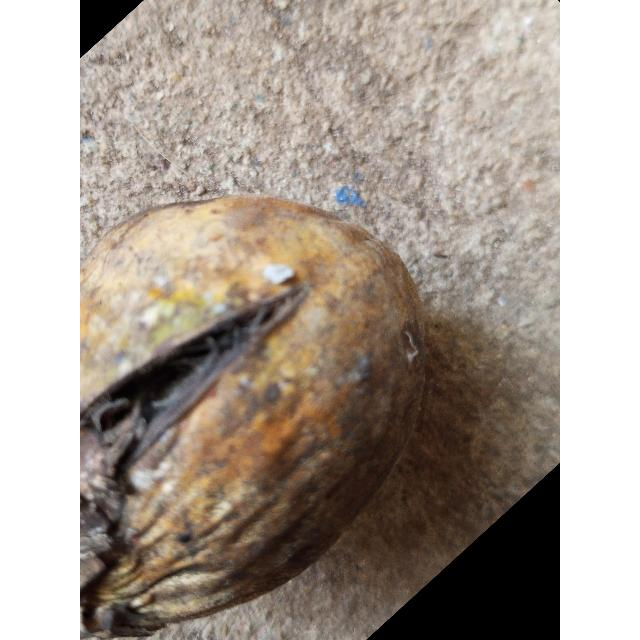damaged: (80, 195, 430, 640)
